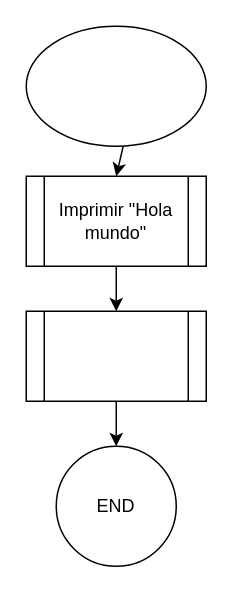
The diagram is 233 pixels wide and 593 high, and some of its shapes have lost their labels. Each missing label, with the centre of its shape:
Imprimir "este es mi primer programa": [115,355]
START: [115,85]
